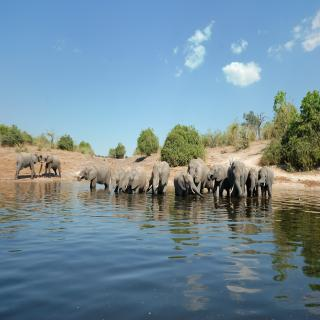Elephant: (77, 159, 112, 198), (13, 144, 41, 184), (206, 161, 232, 200), (147, 162, 174, 198), (122, 165, 149, 201), (228, 158, 248, 206), (174, 170, 200, 202), (38, 150, 63, 182), (186, 155, 205, 191), (256, 164, 275, 198), (110, 165, 124, 198), (247, 167, 260, 201)
